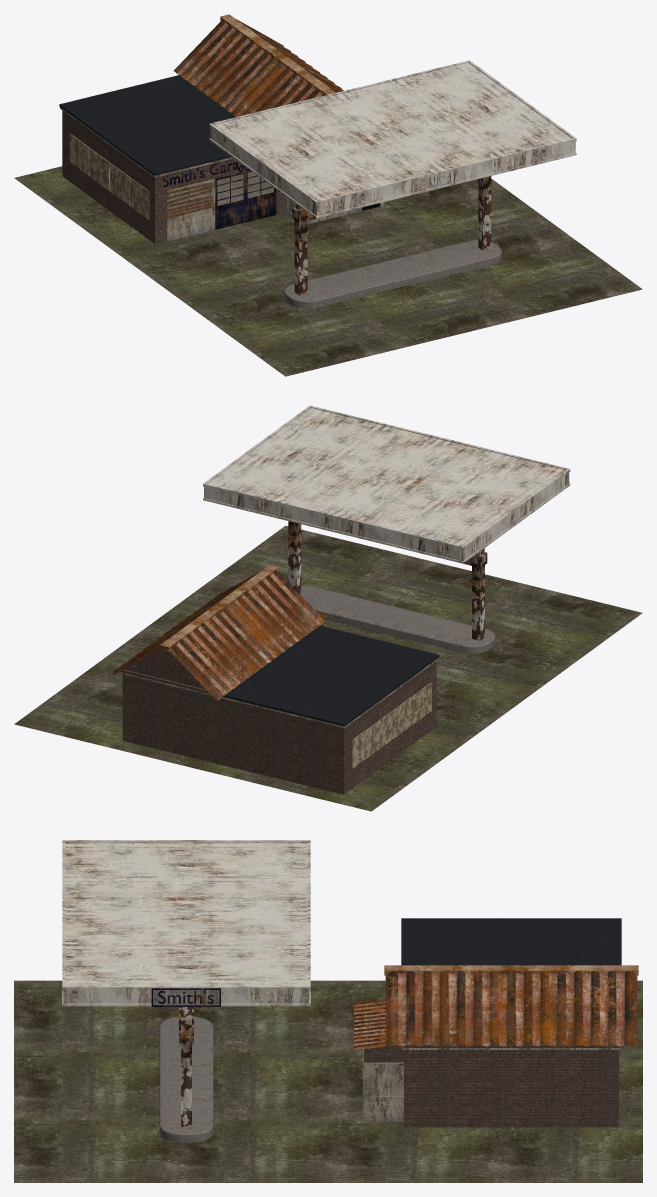
The model's file is lm-petrol.glb.
3 views of the same model, one above another, from view 1: azimuth 30°, elevation 25°; view 2: azimuth 150°, elevation 25°; view 3: azimuth 270°, elevation 25° (orthographic). The views are drawn at different scales.
Visible parts, largest first — view 1: Plane_0, Forecourt roof_4, Petrol station_1, Petrol station.001_7, Bollards_2, Petrol station.003_8, Forecourt roof supports_3, Petrol station.004_9; view 2: Plane_0, Forecourt roof_4, Petrol station_1, Petrol station.001_7, Bollards_2, Petrol station.003_8, Forecourt roof supports_3; view 3: Plane_0, Forecourt roof_4, Petrol station_1, Petrol station.001_7, Bollards_2, Forecourt roof supports_3, Side sign_6.
Part boxes in pixels (x1,y1,x2,y2): Plane_0: (14, 165, 642, 376); Forecourt roof_4: (209, 60, 576, 218); Petrol station_1: (59, 75, 383, 243); Petrol station.001_7: (174, 14, 343, 116); Bollards_2: (284, 240, 501, 308); Petrol station.003_8: (69, 134, 149, 219); Forecourt roof supports_3: (292, 176, 491, 295); Petrol station.004_9: (167, 182, 211, 218); Plane_0: (14, 525, 642, 811); Forecourt roof_4: (203, 405, 570, 563); Petrol station_1: (120, 623, 439, 794); Petrol station.001_7: (113, 565, 326, 701); Bollards_2: (299, 585, 495, 653); Petrol station.003_8: (352, 682, 431, 768); Forecourt roof supports_3: (288, 521, 487, 640); Plane_0: (14, 980, 642, 1182); Forecourt roof_4: (62, 840, 310, 1006); Petrol station_1: (362, 918, 621, 1127); Petrol station.001_7: (354, 965, 638, 1050); Bollards_2: (159, 1016, 213, 1142); Forecourt roof supports_3: (179, 1007, 193, 1129); Side sign_6: (151, 988, 220, 1006).
Size of the model in its own units: 17.77 by 6.96 by 23.38.
Materials: 21 (20 with a texture image).
